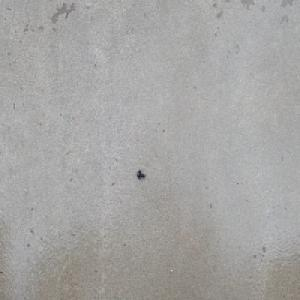BoltWasher: (136, 169, 145, 180)
